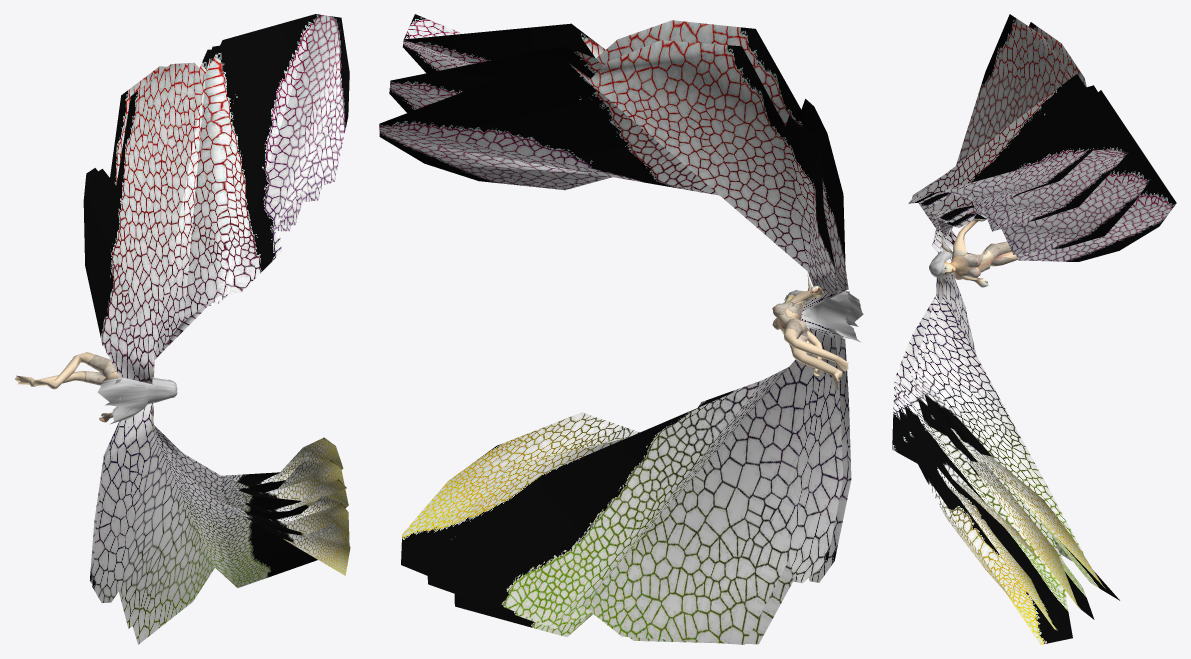
The model's file is angel_000223.obj.
3 views of the same model, side by side, from view 1: azimuth 30°, elevation 25°; view 2: azimuth 150°, elevation 25°; view 3: azimuth 270°, elevation 25° (orthographic). The views are drawn at different scales.
Visible parts, largest first — view 1: wings_Plane.001, hair.003_omino.013, body.001_omino.012; view 2: wings_Plane.001, body.001_omino.012, hair.003_omino.013; view 3: wings_Plane.001, body.001_omino.012, hair.003_omino.013.
Boxes of the visible parts, x1=… form: wings_Plane.001: x1=83, y1=14, x2=350, y2=644; hair.003_omino.013: x1=97, y1=377, x2=177, y2=424; body.001_omino.012: x1=15, y1=344, x2=154, y2=422; wings_Plane.001: x1=379, y1=14, x2=851, y2=644; body.001_omino.012: x1=772, y1=273, x2=848, y2=389; hair.003_omino.013: x1=784, y1=290, x2=863, y2=342; wings_Plane.001: x1=892, y1=14, x2=1176, y2=644; body.001_omino.012: x1=940, y1=218, x2=1017, y2=291; hair.003_omino.013: x1=929, y1=232, x2=952, y2=277.
Size of the model in its own units: 6.77 by 10.06 by 4.9.
